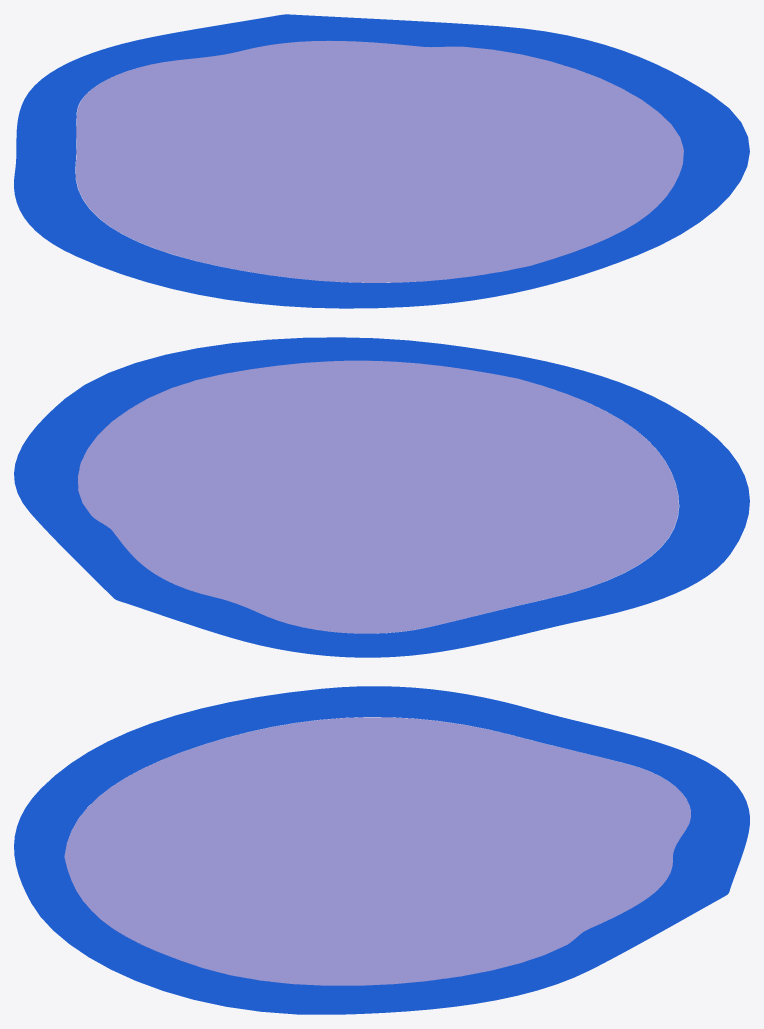
The picture shows the model from 3 angles, top to bottom: view 1: azimuth 30°, elevation 25°; view 2: azimuth 150°, elevation 25°; view 3: azimuth 270°, elevation 25°; orthographic projection. The views are drawn at different scales.
Parts seen in each view (by area): view 1: Curve.020, Curve.018; view 2: Curve.020, Curve.018; view 3: Curve.020, Curve.018.
Boxes of the visible parts, box(x1,y1,x2,y2) form: Curve.020: box(75, 40, 683, 282); Curve.018: box(14, 14, 749, 308); Curve.020: box(78, 360, 678, 633); Curve.018: box(14, 337, 749, 657); Curve.020: box(64, 717, 690, 985); Curve.018: box(14, 686, 749, 1014).
Bounding box in the file's own units: 0.9146 × 0.8656 × 0.
